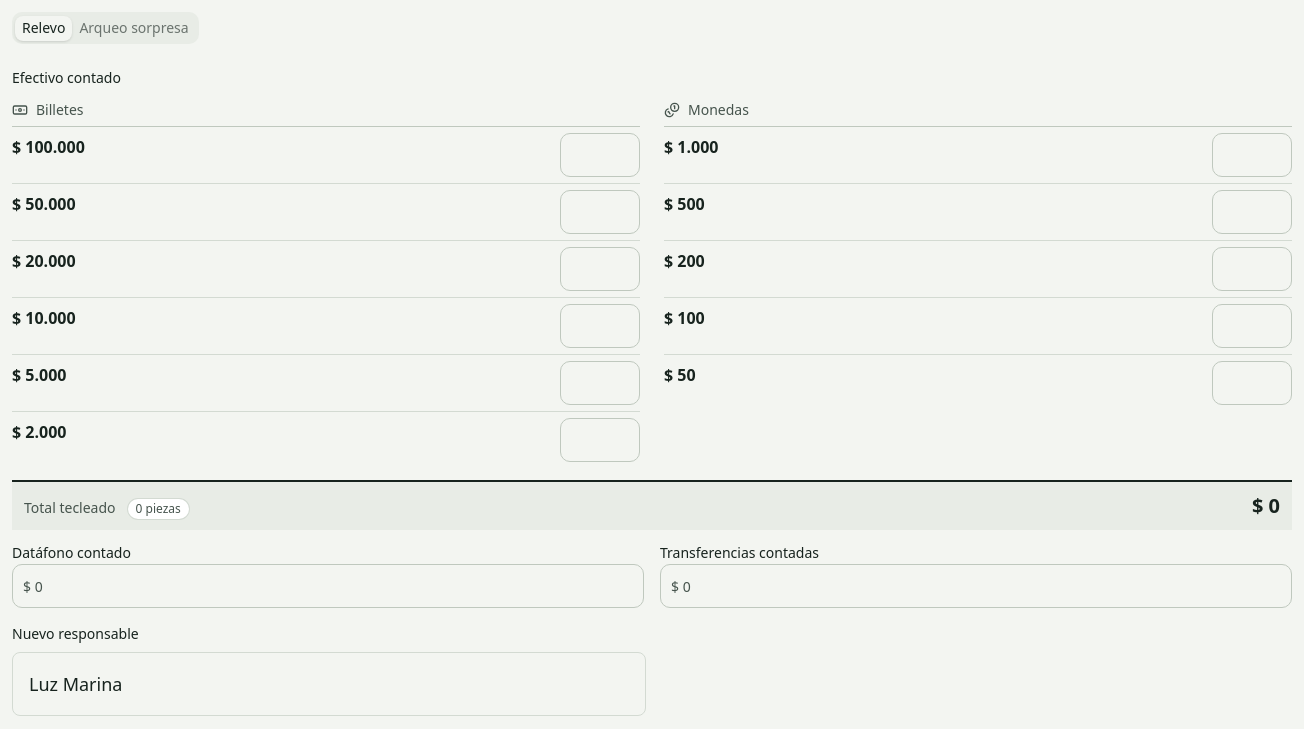
HandoverPanel — quien recibe confirma con su PIN › manda el PIN de quien recibe, pasa la tablet a su nombre y muestra la tarjeta del relevo
Click the radio button labelled "Luz Marina" at [76, 684], box x1=12 y1=652 x2=646 y2=716
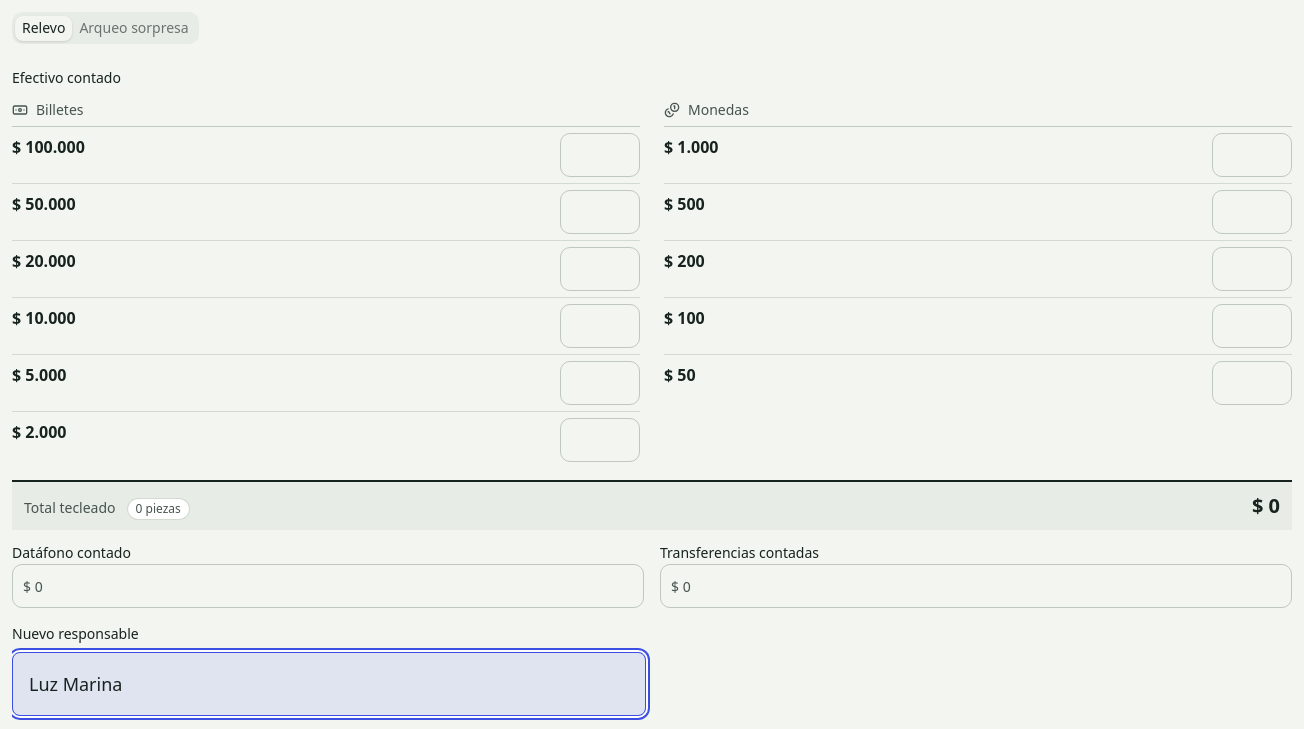
Type keys "2468"
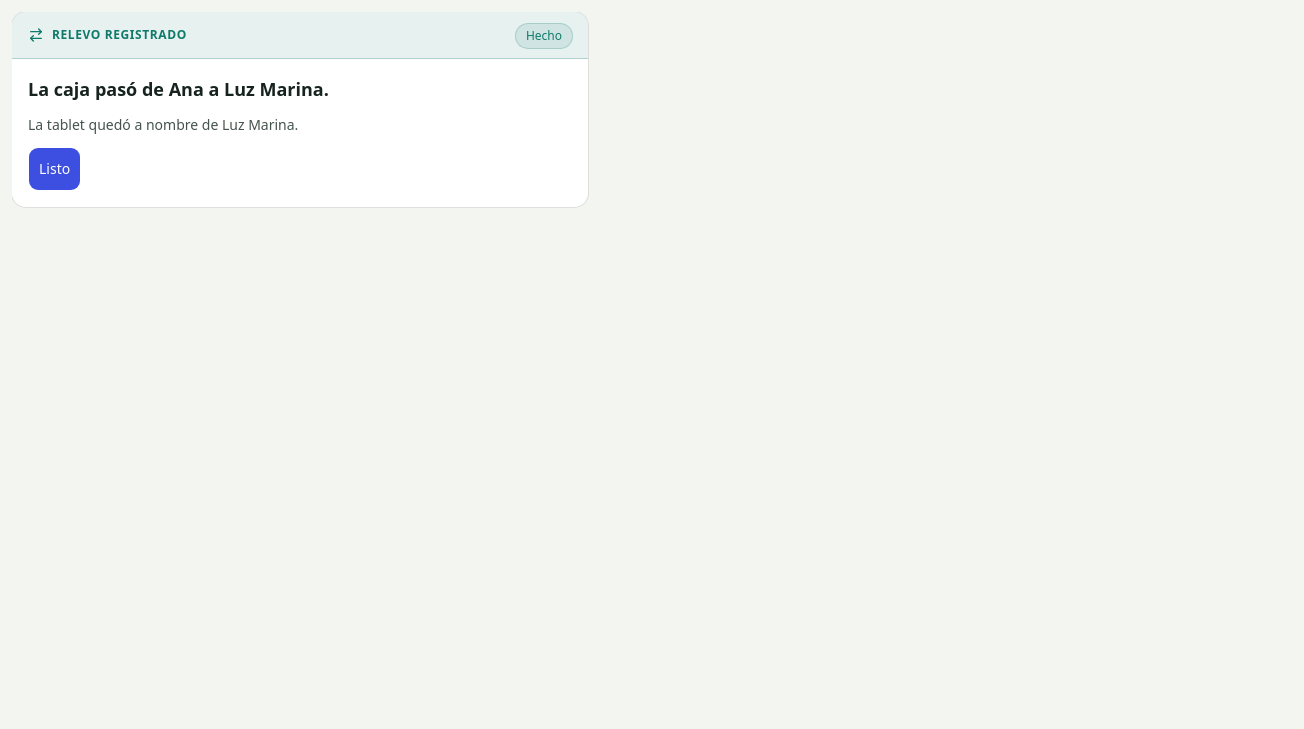
Result: the text "La caja pasó de Ana a Luz Marina." is shown at x1=28 y1=77 x2=329 y2=101
Result: the text "La tablet quedó a nombre de Luz Marina." is shown at x1=28 y1=115 x2=298 y2=134
